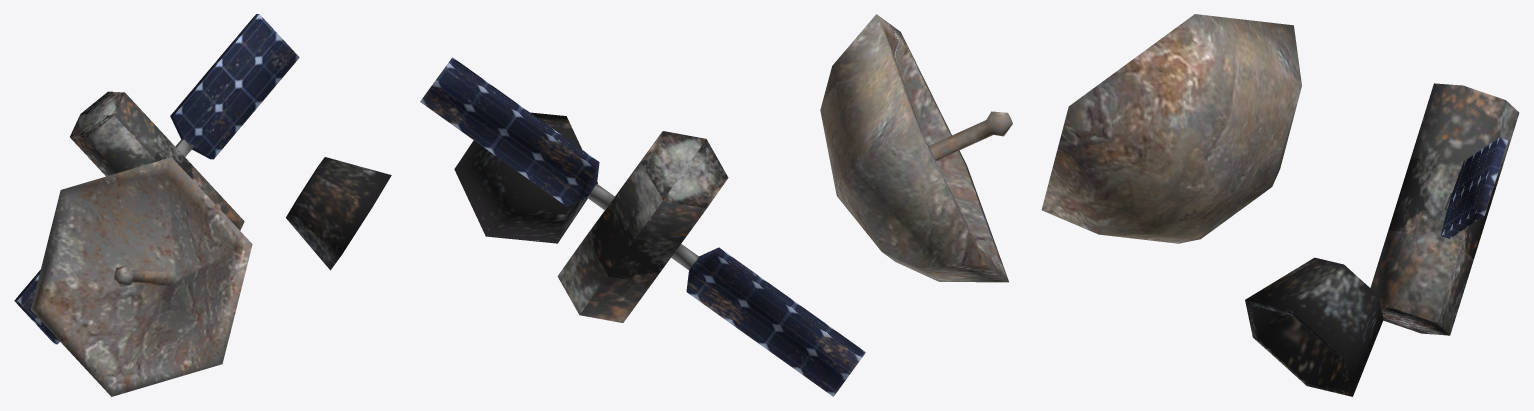
File: ChatarraEspacial1.DAE
3 views of the same model, side by side, from view 1: azimuth 30°, elevation 25°; view 2: azimuth 150°, elevation 25°; view 3: azimuth 270°, elevation 25° (orthographic). The views are drawn at different scales.
Parts seen in each view (by area): view 1: chatarraespacial_Galaxi; view 2: chatarraespacial_Galaxi; view 3: chatarraespacial_Galaxi.
Boxes of the visible parts, x1,y1,x2,y2 form: chatarraespacial_Galaxi: (14, 14, 391, 396); chatarraespacial_Galaxi: (420, 14, 1012, 396); chatarraespacial_Galaxi: (1041, 14, 1519, 396).
Size of the model in its own units: 6.08 by 5.23 by 3.6.
1 material, 1 textured.
